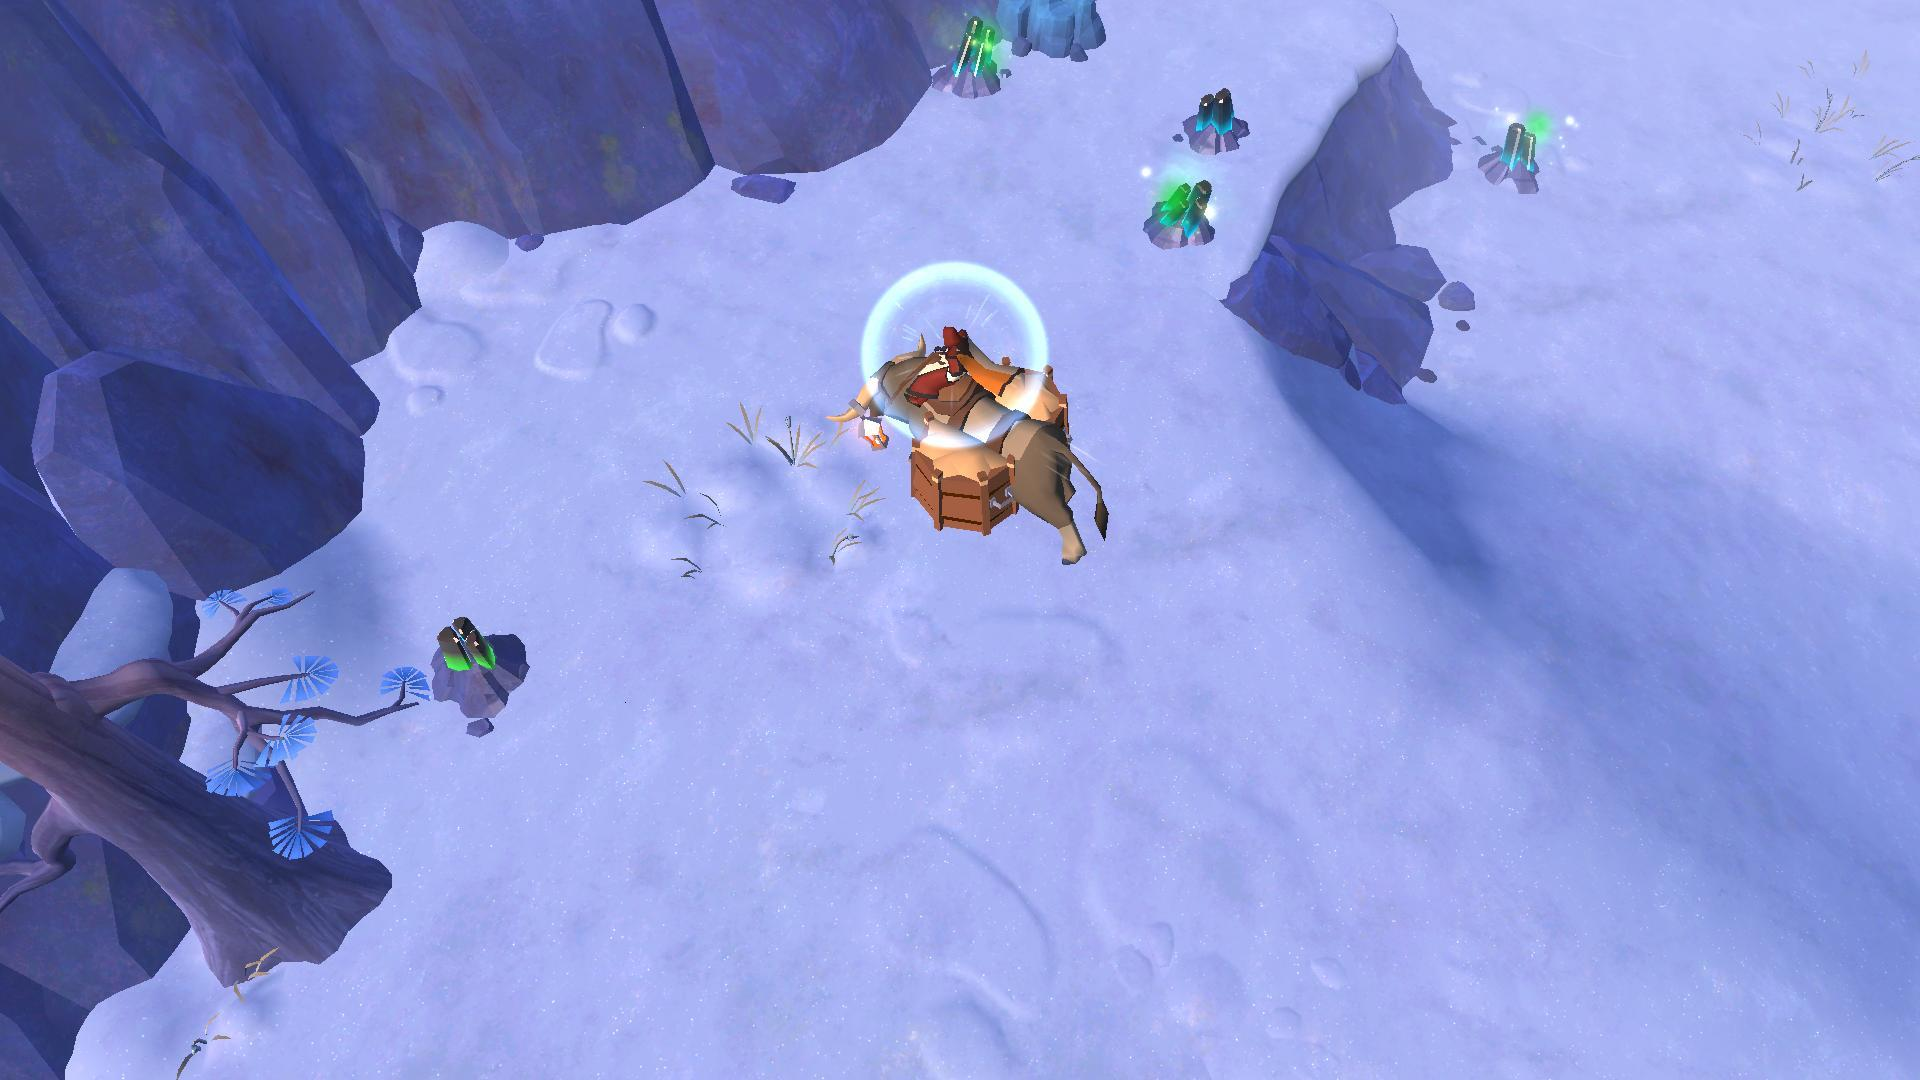ore_t3: (431, 613, 492, 684)
ore_t4: (934, 16, 1006, 95), (1153, 177, 1217, 236), (1493, 116, 1538, 178), (1191, 83, 1237, 136)
rock_t4: (994, 0, 1118, 66)
